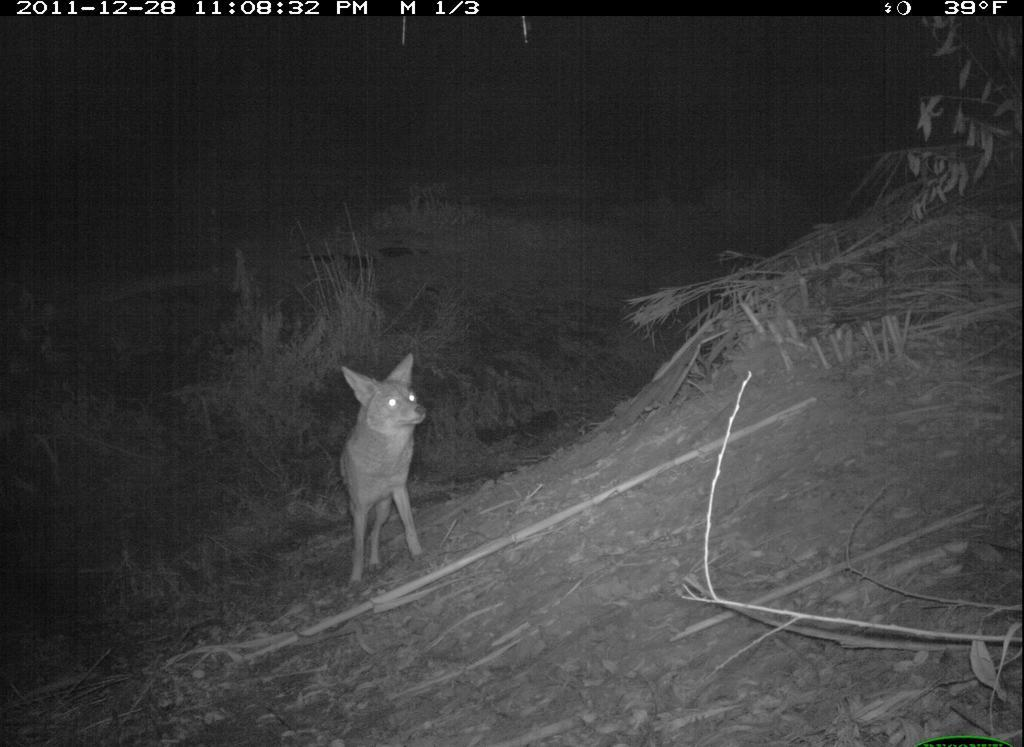coyote: (327, 346, 454, 593)
